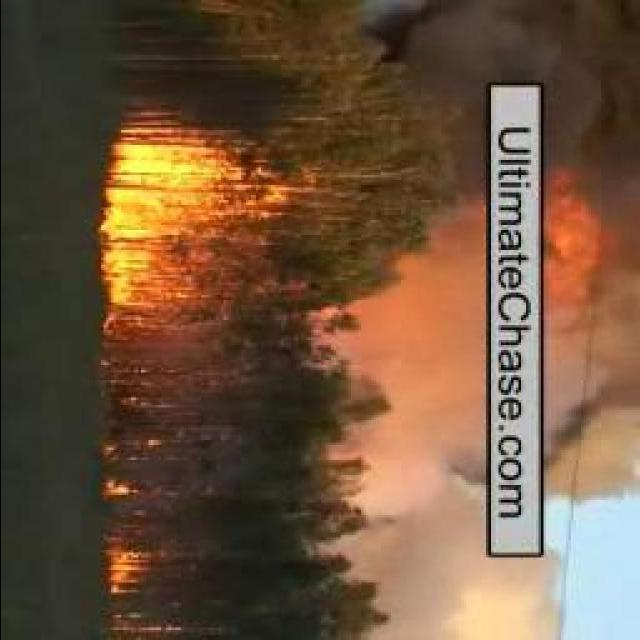Fire: (100, 118, 290, 318), (101, 430, 168, 498), (105, 538, 148, 600)
